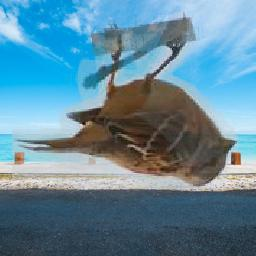Sparrow: (12, 7, 238, 190)
